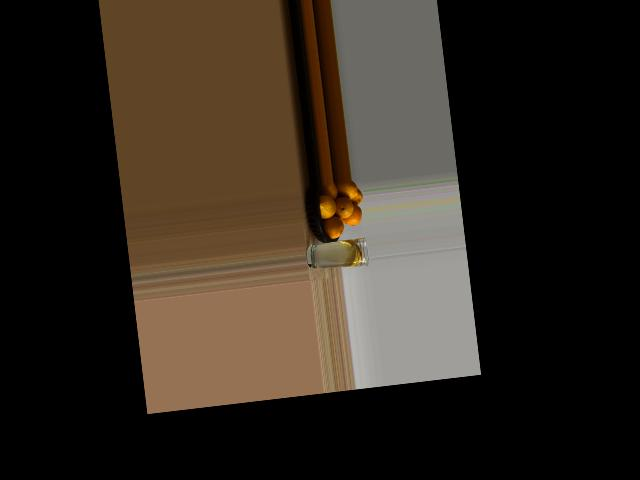lemon: (333, 179, 361, 203)
